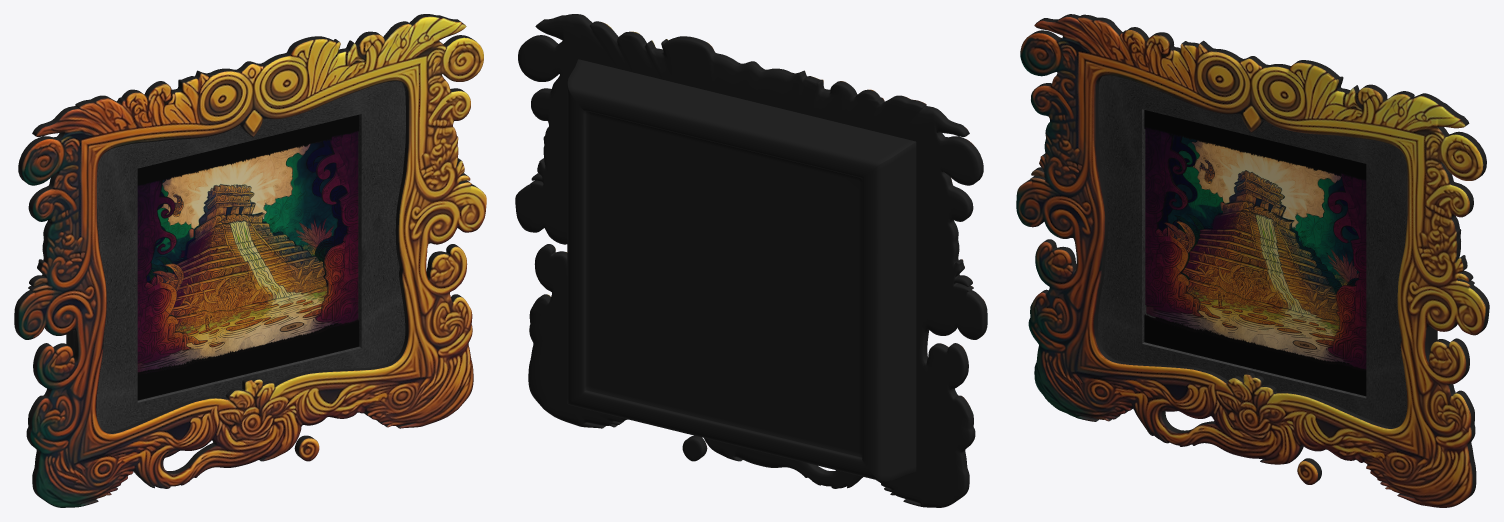
The model's file is innovarteca-30.glb.
The picture shows the model from 3 angles, left to right: view 1: azimuth 30°, elevation 25°; view 2: azimuth 150°, elevation 25°; view 3: azimuth 330°, elevation 25°; orthographic projection.
Parts seen in each view (by area): view 1: Marco6, Paper6, capa0, capa10, capa11, capa9, capa8, capa3, capa1, capa7, capa6, capa5 (+2 smaller); view 2: Marco6; view 3: Marco6, Paper6, capa0, capa10, capa11, capa9, capa8, capa3, capa1, capa7, capa6, capa5 (+2 smaller).
Part boxes in pixels (left/top/right/bottom): Marco6: left=14, top=14, right=486, bottom=507; Paper6: left=96, top=81, right=405, bottom=431; capa0: left=137, top=140, right=347, bottom=373; capa10: left=137, top=131, right=358, bottom=364; capa11: left=137, top=114, right=359, bottom=400; capa9: left=137, top=286, right=336, bottom=372; capa8: left=170, top=255, right=326, bottom=316; capa3: left=186, top=220, right=273, bottom=258; capa1: left=199, top=184, right=255, bottom=224; capa7: left=180, top=250, right=311, bottom=287; capa6: left=183, top=245, right=302, bottom=277; capa5: left=180, top=240, right=294, bottom=270; Marco6: left=515, top=14, right=987, bottom=507; Marco6: left=1016, top=14, right=1489, bottom=507; Paper6: left=1098, top=75, right=1407, bottom=426; capa0: left=1155, top=135, right=1365, bottom=369; capa10: left=1145, top=128, right=1366, bottom=369; capa11: left=1144, top=110, right=1366, bottom=396; capa9: left=1146, top=278, right=1348, bottom=363; capa8: left=1182, top=251, right=1339, bottom=320; capa3: left=1212, top=210, right=1300, bottom=248; capa1: left=1229, top=170, right=1285, bottom=216; capa7: left=1191, top=244, right=1329, bottom=284; capa6: left=1197, top=238, right=1322, bottom=275; capa5: left=1199, top=233, right=1317, bottom=266.
Size of the model in its own units: 3.14 by 2.69 by 0.3668.
14 materials, 14 textured.
